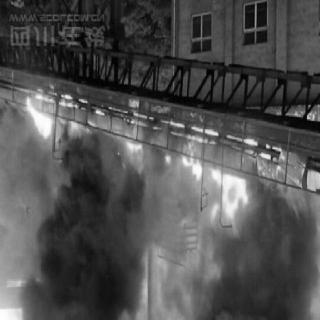Fire: (17, 92, 221, 182), (208, 134, 308, 248)
Smoke: (206, 222, 314, 320)
